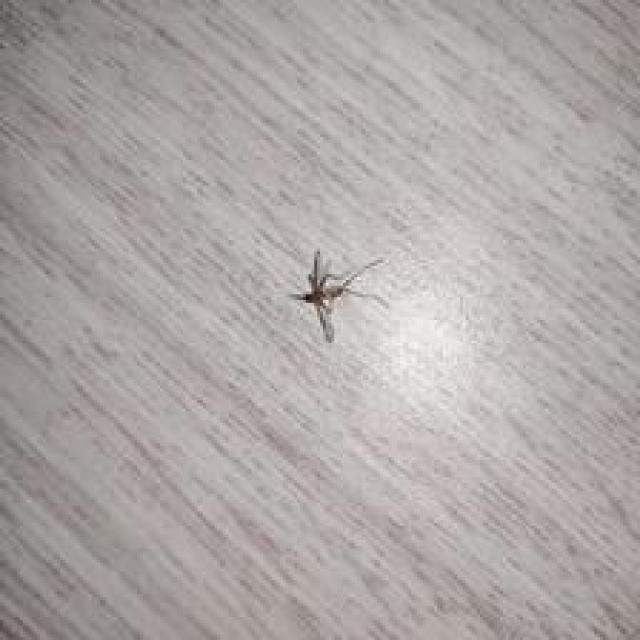Culex: (288, 248, 388, 343)
